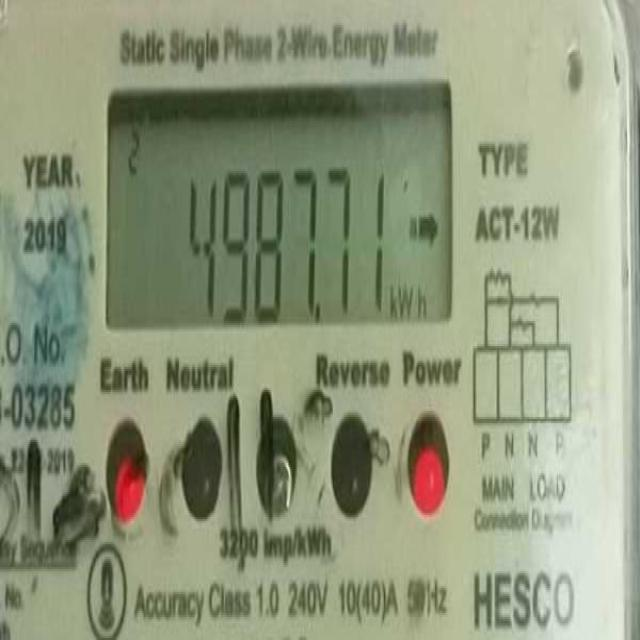1: (361, 148, 389, 330)
4: (183, 175, 220, 322)
7: (324, 154, 360, 328), (286, 150, 319, 324)
8: (253, 160, 286, 330)
9: (220, 162, 253, 334)
Digital meter: (106, 98, 455, 341)
point: (316, 299, 326, 333)
